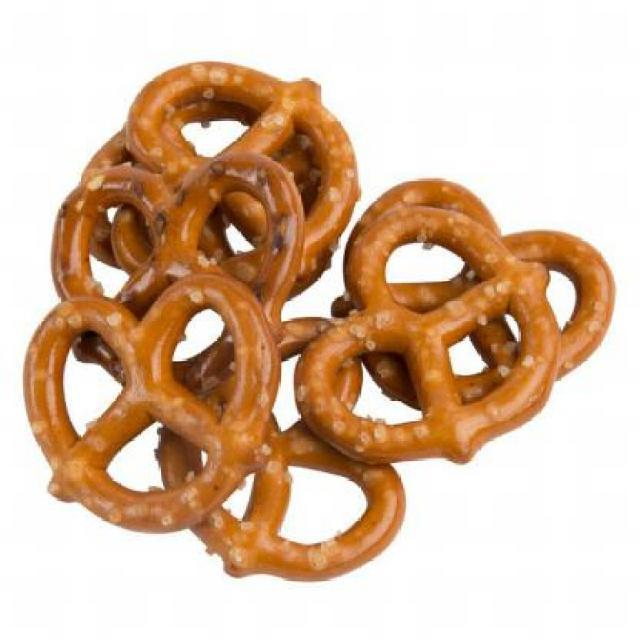Salatini packaged: (23, 61, 620, 584)
